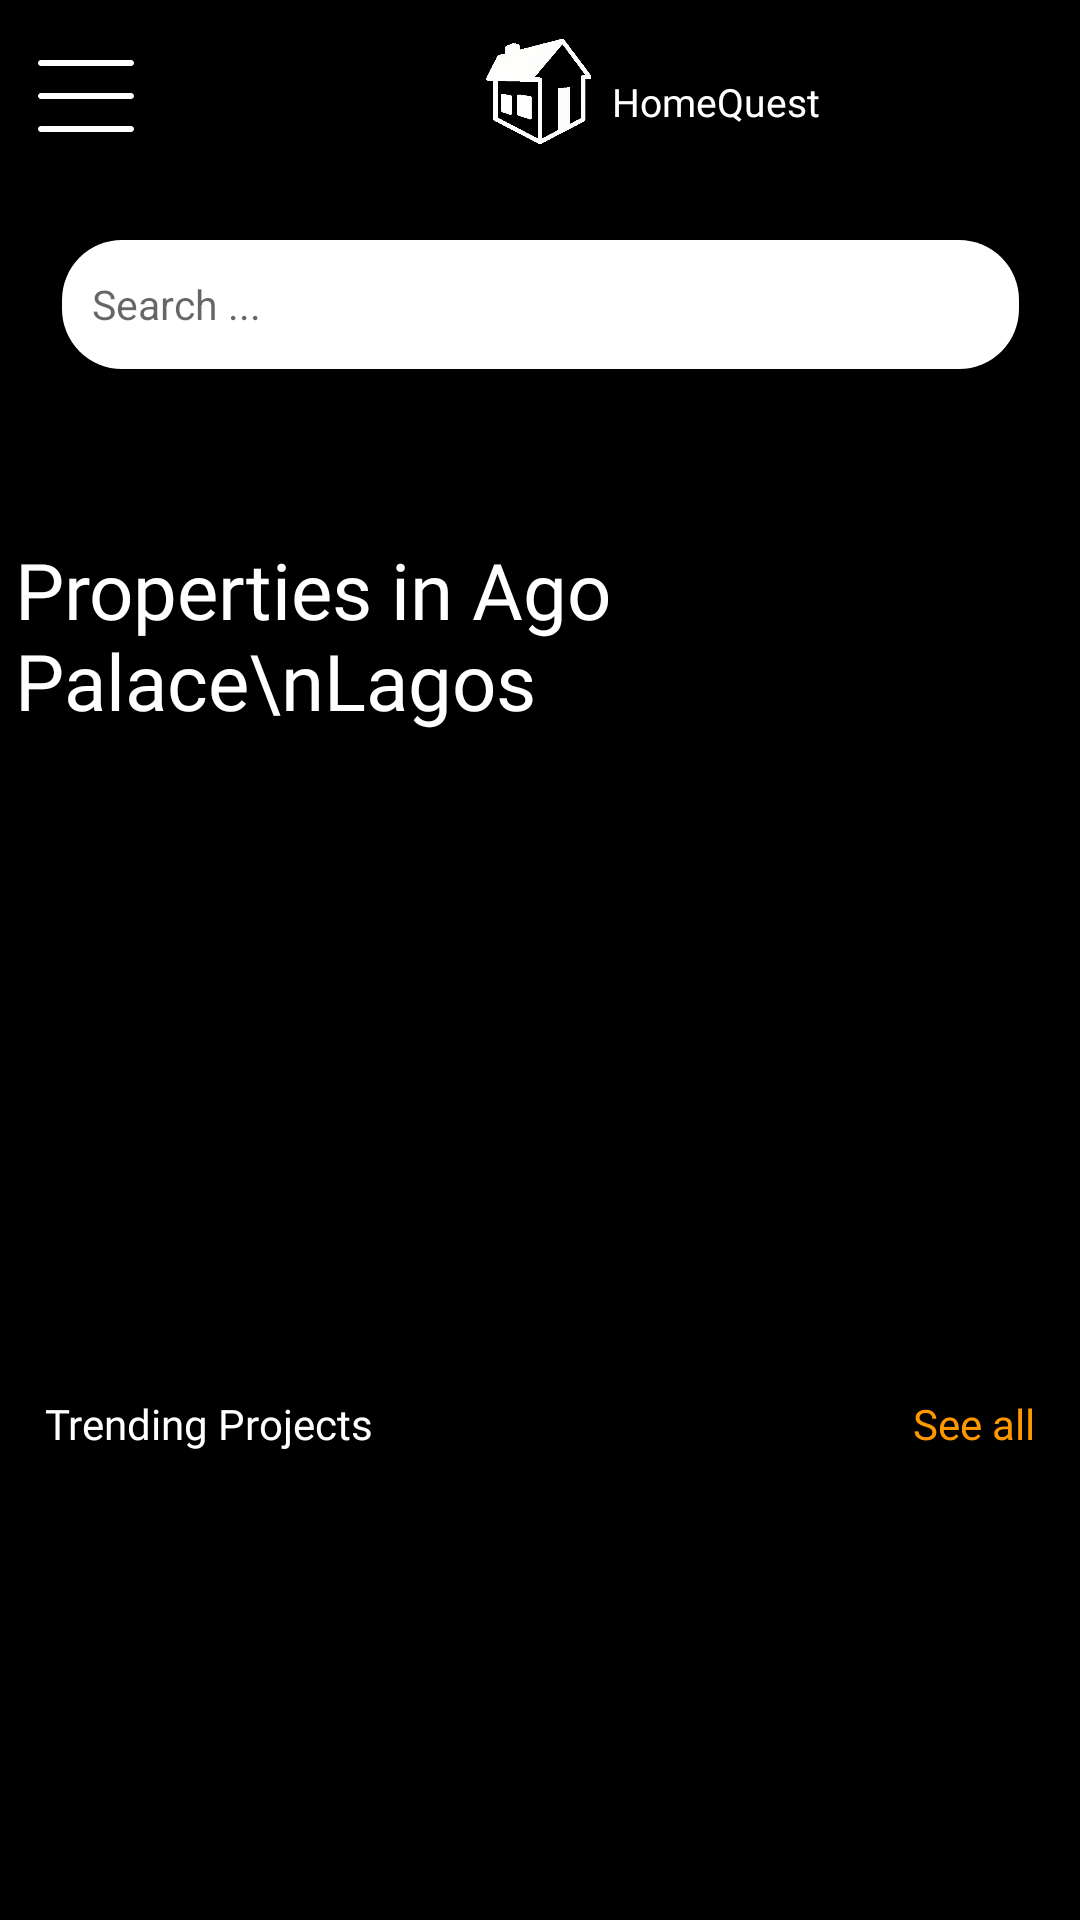

Where to tap for icons on this 1080px x 1920px app screen, as (x=x, y=y):
menu: (x=86, y=96)
